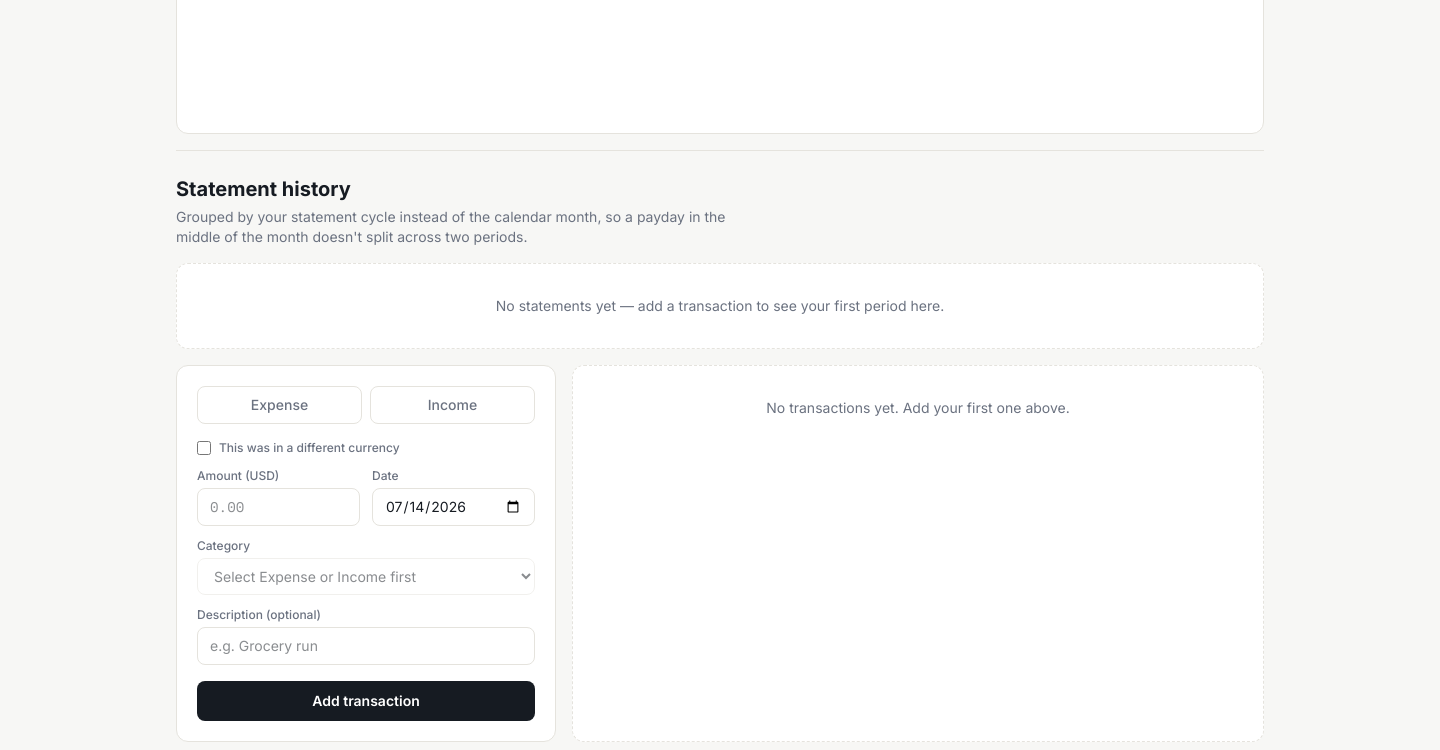
Test: App — statement history › shows an "Export Excel" button that is disabled with no data and enabled once data exists
(page scrolled)
Click the button "Expense".
click(280, 405)  # box [197, 386, 362, 424]
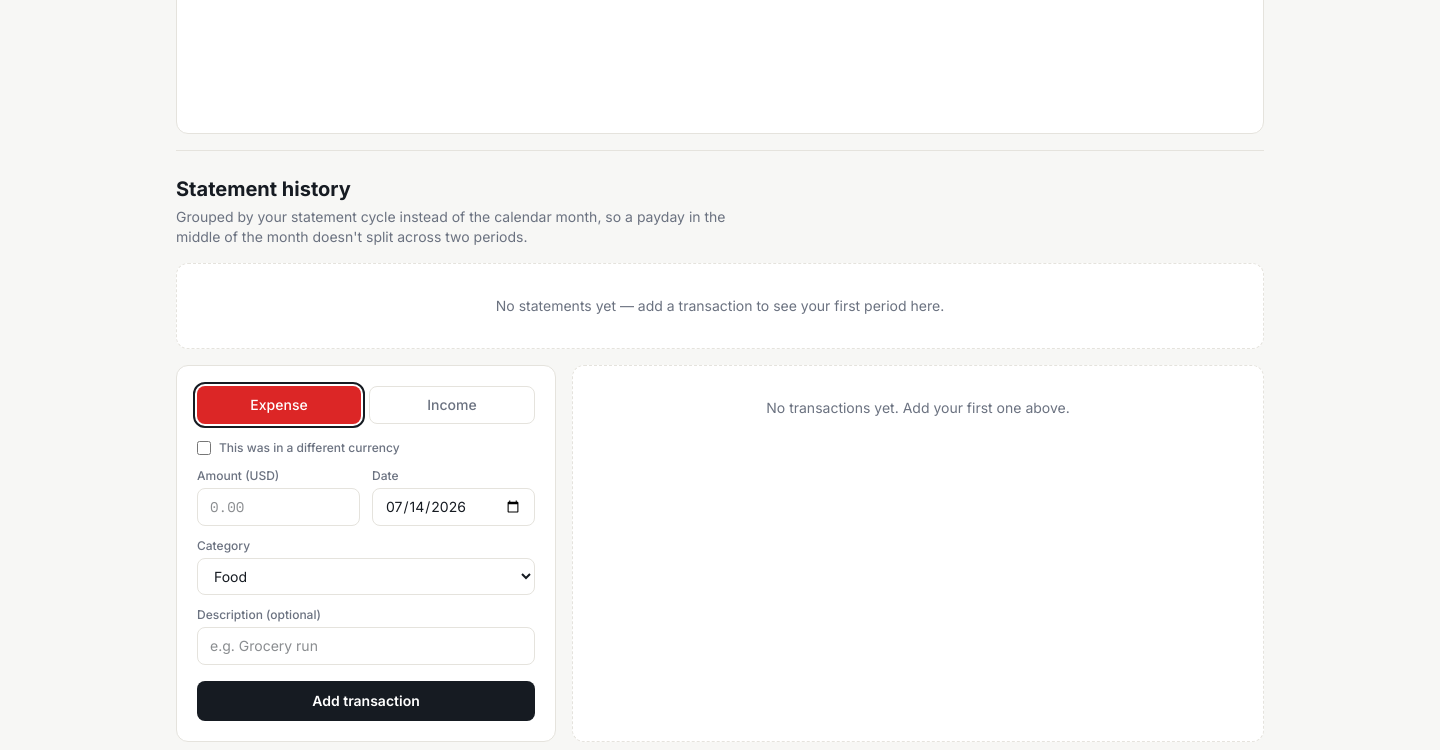
Type "20" into the number field labelled "Amount (USD)".
click(278, 507); type("20")  # box [197, 488, 360, 526]
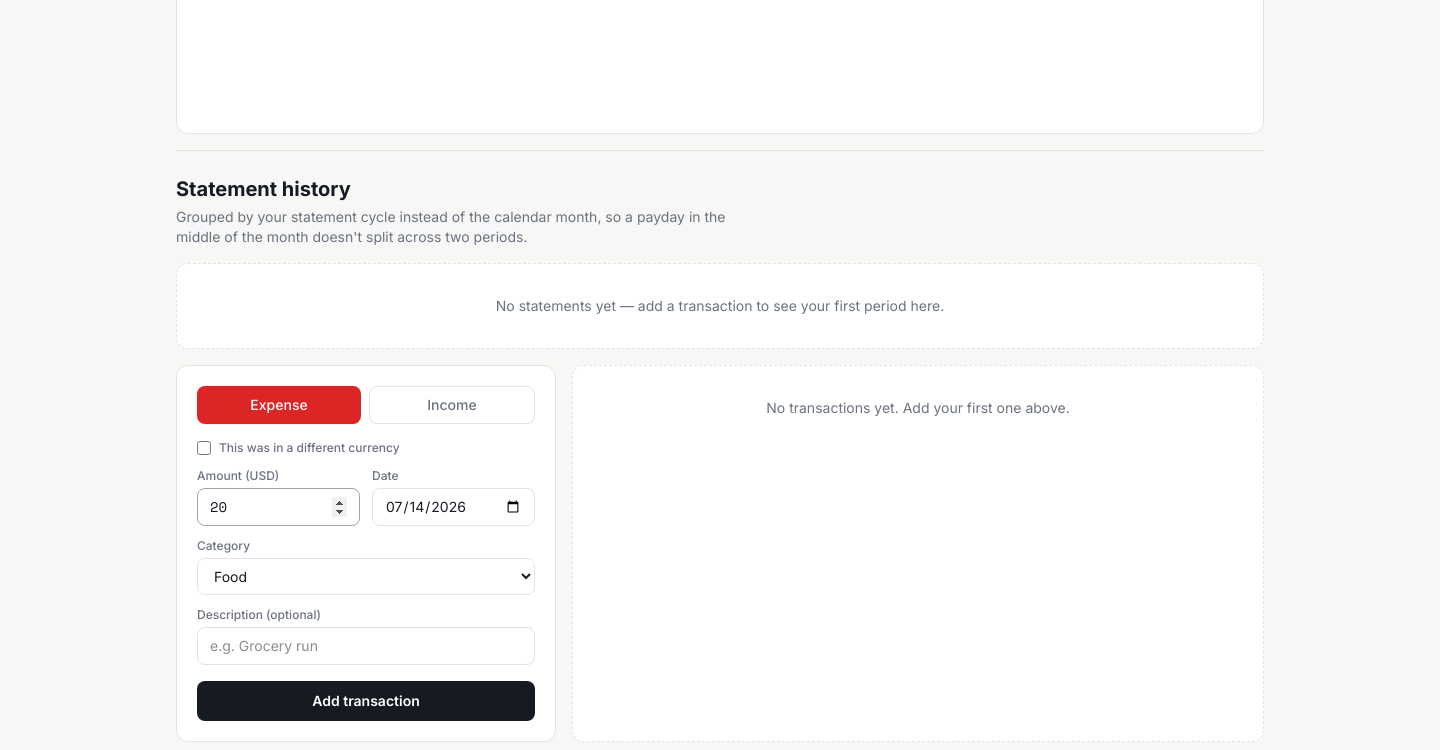
Click the button "Add transaction".
click(366, 701)  # box [197, 681, 535, 721]
(page scrolled)
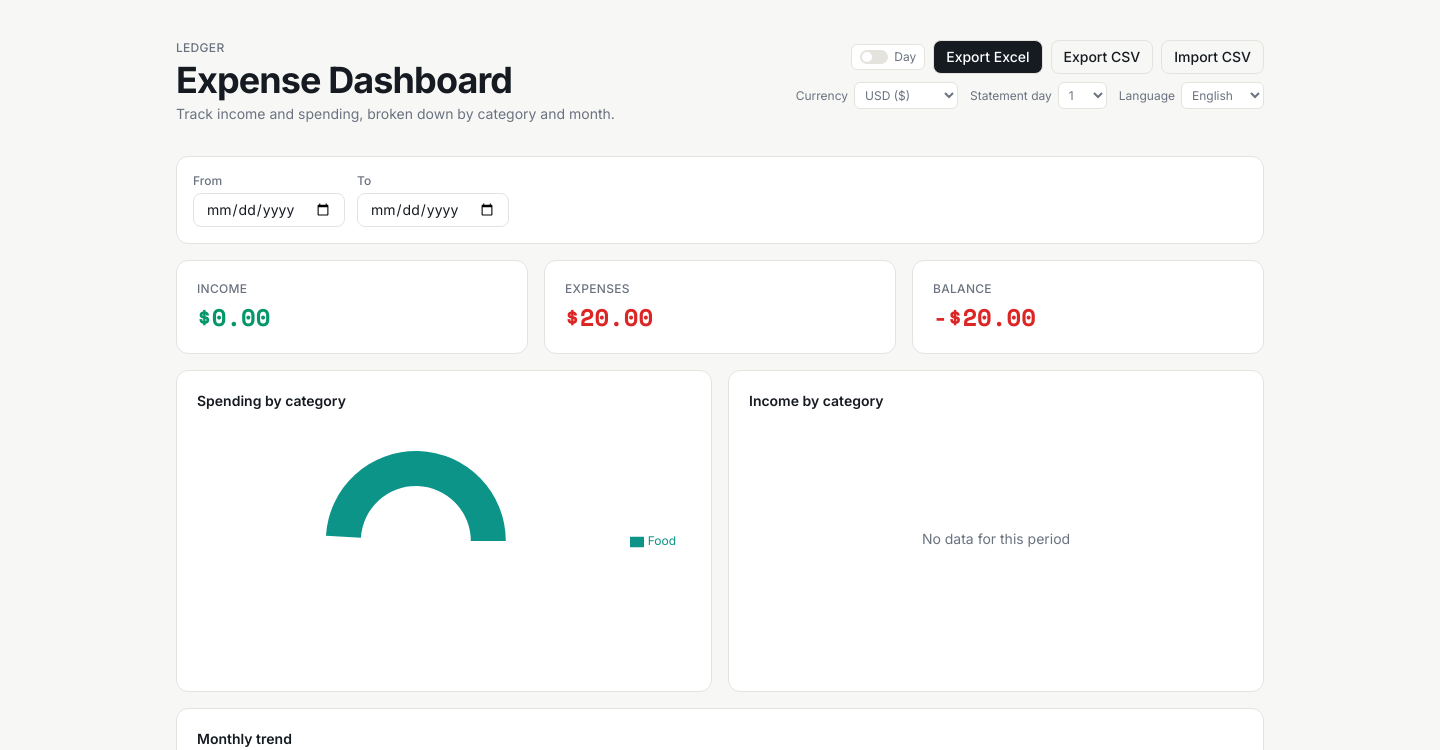
Check: the button "Export Excel" is enabled, box [933, 40, 1042, 74]
